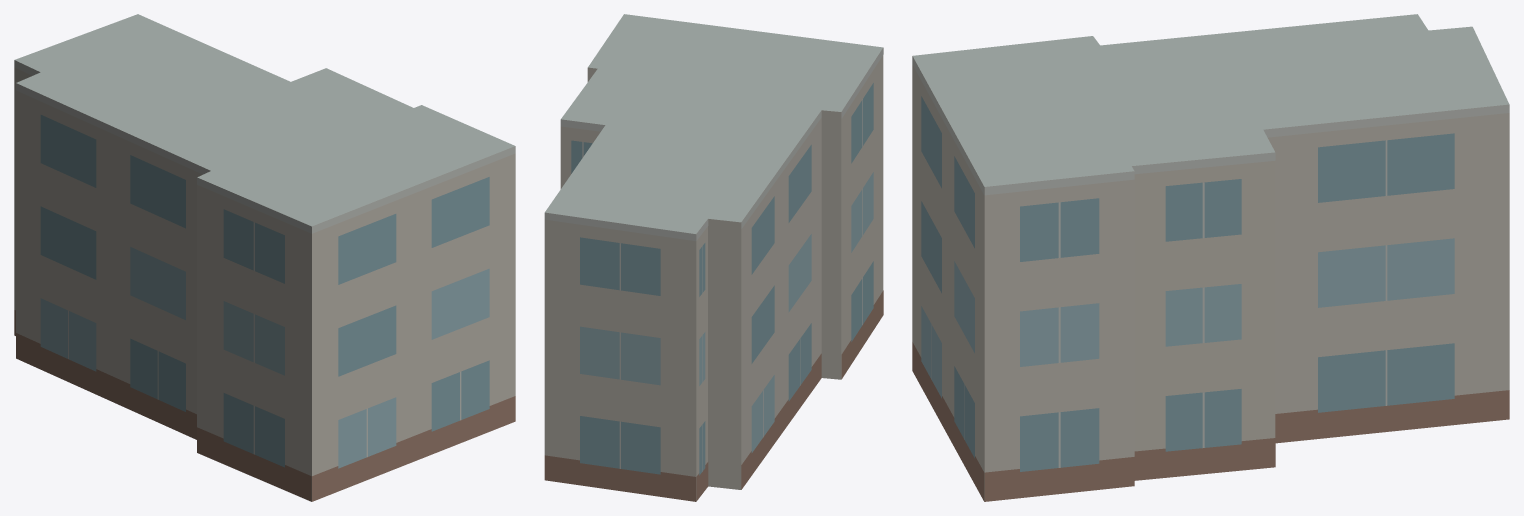
The model's file is survey-upis-32895530.glb.
The picture shows the model from 3 angles, left to right: view 1: azimuth 30°, elevation 25°; view 2: azimuth 150°, elevation 25°; view 3: azimuth 270°, elevation 25°; orthographic projection. The views are drawn at different scales.
Parts seen in each view (by area): view 1: survey-upis-32895530.tmp; view 2: survey-upis-32895530.tmp; view 3: survey-upis-32895530.tmp.
Part boxes in pixels (left/top/right/bottom): survey-upis-32895530.tmp: left=14, top=14, right=515, bottom=501; survey-upis-32895530.tmp: left=544, top=14, right=883, bottom=501; survey-upis-32895530.tmp: left=912, top=14, right=1509, bottom=501.
Size of the model in its own units: 10.79 by 9.15 by 15.74.
